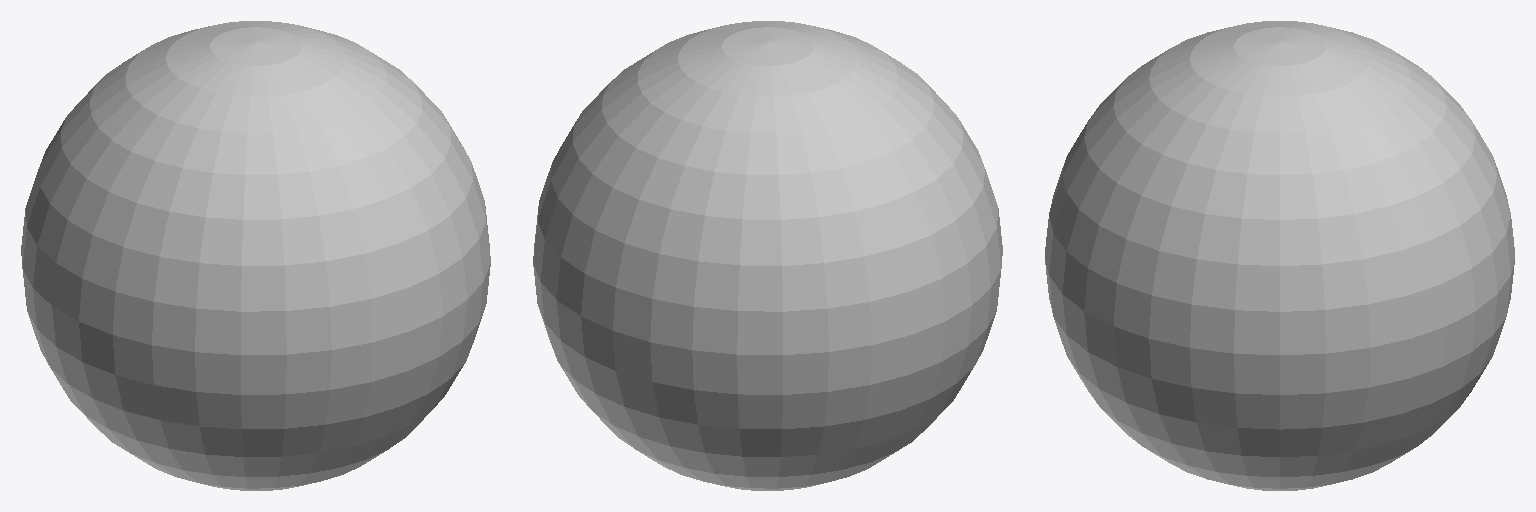
File: urano.obj
3 renders of one model, left to right at view 1: azimuth 30°, elevation 25°; view 2: azimuth 150°, elevation 25°; view 3: azimuth 270°, elevation 25°, orthographic.
Parts seen in each view (by area): view 1: Sphere.008_Material.009_0; view 2: Sphere.008_Material.009_0; view 3: Sphere.008_Material.009_0.
Boxes of the visible parts, box(x1,y1,x2,y2) form: Sphere.008_Material.009_0: box(21, 21, 490, 490); Sphere.008_Material.009_0: box(533, 21, 1002, 490); Sphere.008_Material.009_0: box(1045, 21, 1514, 490).
Bounding box in the file's own units: 1.65 × 1.65 × 1.65.